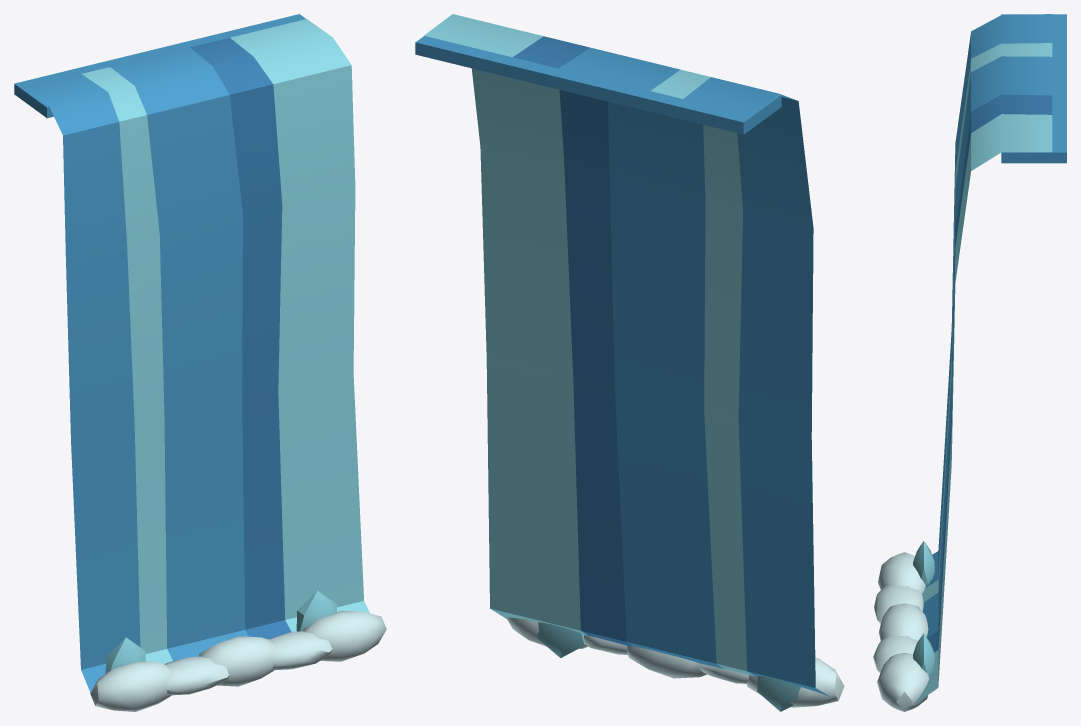
Rendered from waterfall_large_01.glb.
The picture shows the model from 3 angles, left to right: view 1: azimuth 30°, elevation 25°; view 2: azimuth 150°, elevation 25°; view 3: azimuth 270°, elevation 25°; orthographic projection. The views are drawn at different scales.
Parts seen in each view (by area): view 1: waterfall_large_01; view 2: waterfall_large_01; view 3: waterfall_large_01.
Boxes of the visible parts, x1,y1,x2,y2 form: waterfall_large_01: [14, 14, 386, 711]; waterfall_large_01: [415, 14, 844, 711]; waterfall_large_01: [873, 14, 1066, 711].
Size of the model in its own units: 1.39 by 2.6 by 0.7994.
